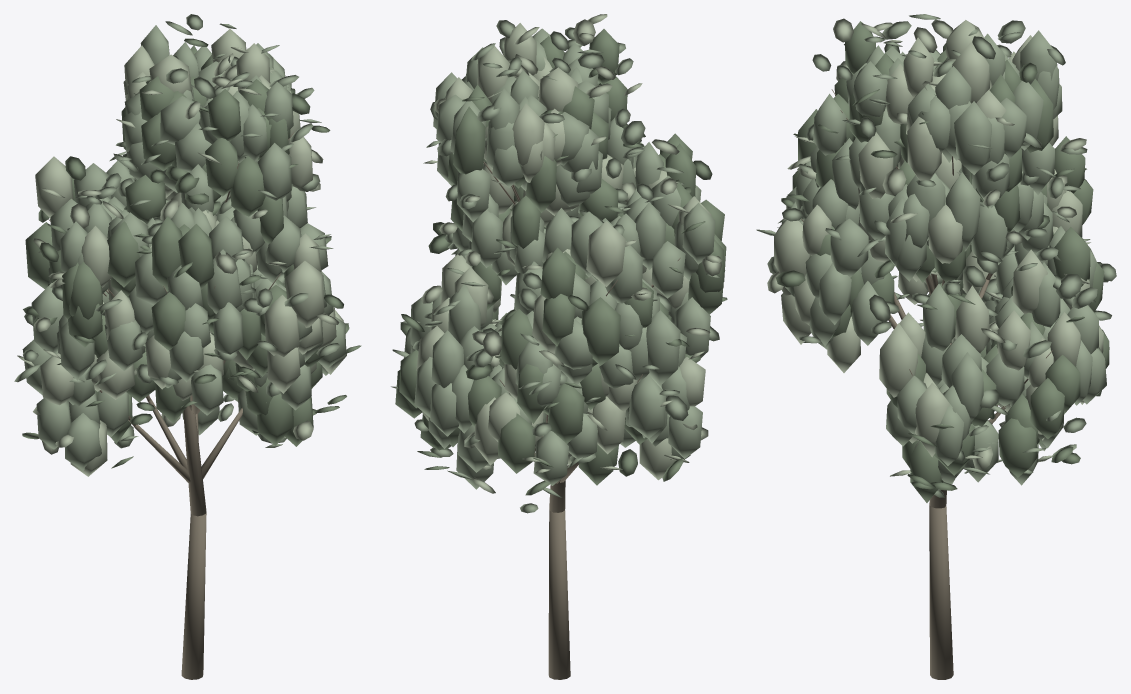
File: SM_MPR3_Tree_1.fbx
3 views of the same model, side by side, from view 1: azimuth 30°, elevation 25°; view 2: azimuth 150°, elevation 25°; view 3: azimuth 270°, elevation 25° (orthographic). The views are drawn at different scales.
Visible parts, largest first — view 1: SM_MPR3_Tree_1; view 2: SM_MPR3_Tree_1; view 3: SM_MPR3_Tree_1.
Boxes of the visible parts, <box> form: SM_MPR3_Tree_1: <box>14,14,361,679</box>; SM_MPR3_Tree_1: <box>391,14,727,679</box>; SM_MPR3_Tree_1: <box>756,14,1116,679</box>.
Size of the model in its own units: 539 by 511 by 1040.
